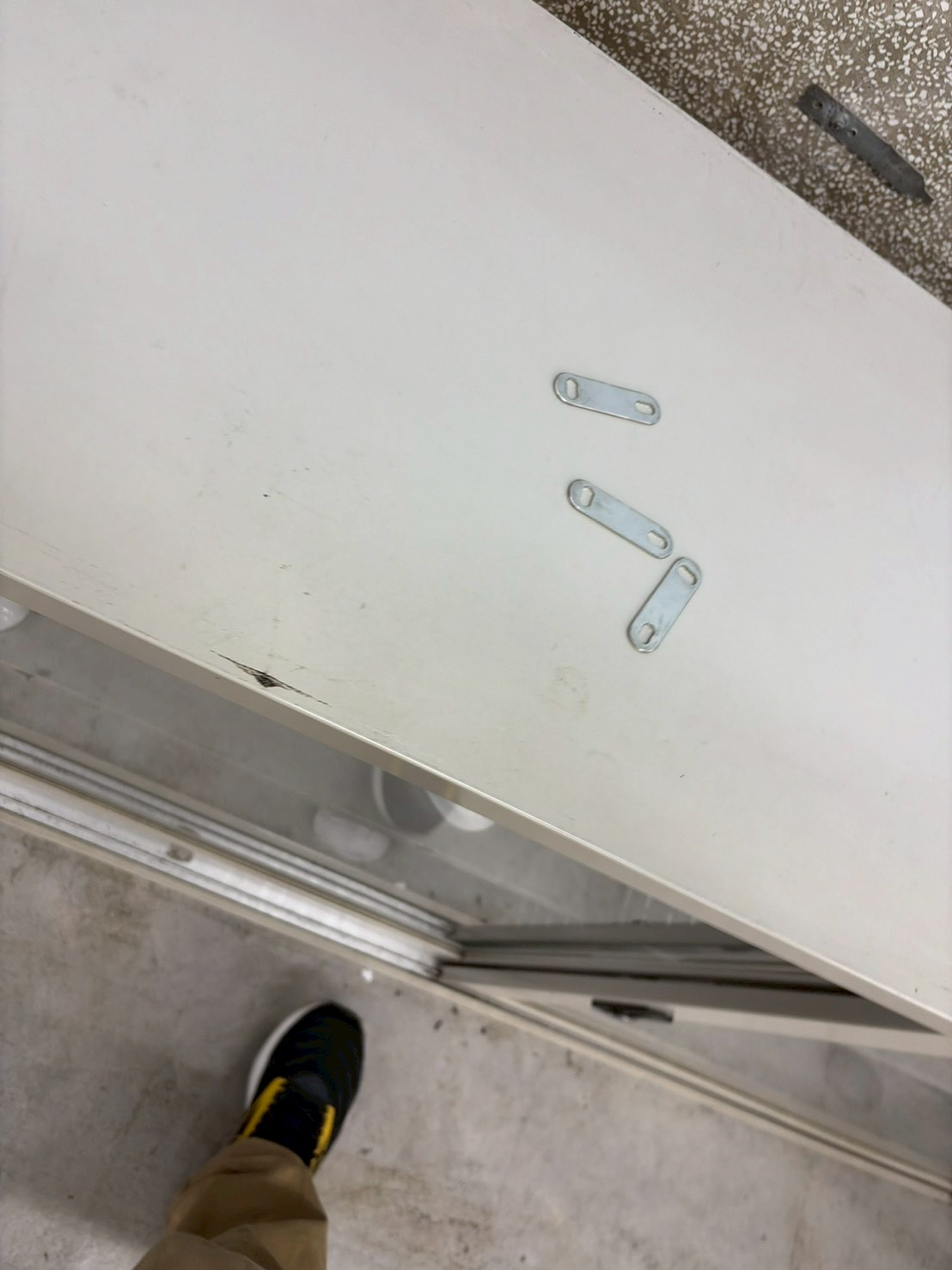Fe: (561, 476, 673, 565), (547, 363, 664, 432), (632, 538, 697, 662)
